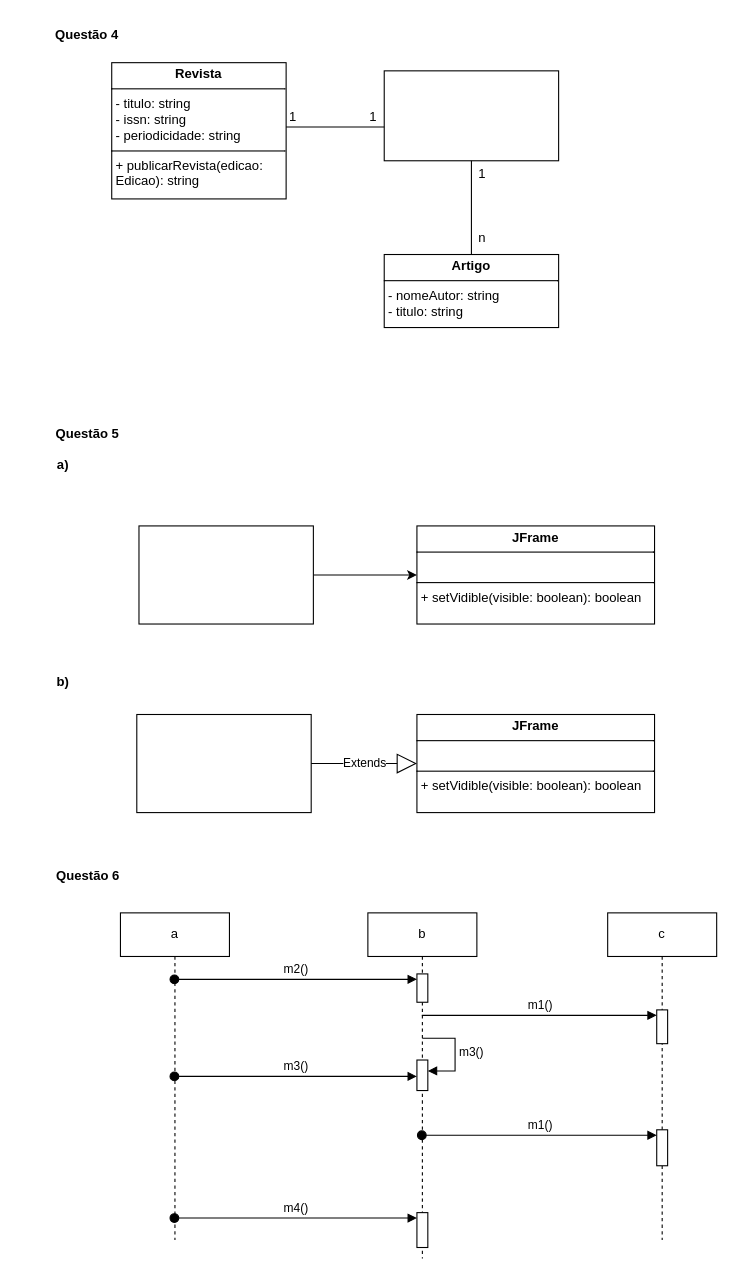
This 736x1277 diagram has some shape labels left out. The shapes that lost their labels are listed below. From the top down, each one's centre as x and y in pixels, then its label:
At point (471, 115): "Edições - numEdicao: int - volumeEdicao: string - dataEdicao: string".
At point (225, 574): "HelloWorldSwing".
At point (223, 763): "HelloWorldSwing + HelloWroldSwing()".
